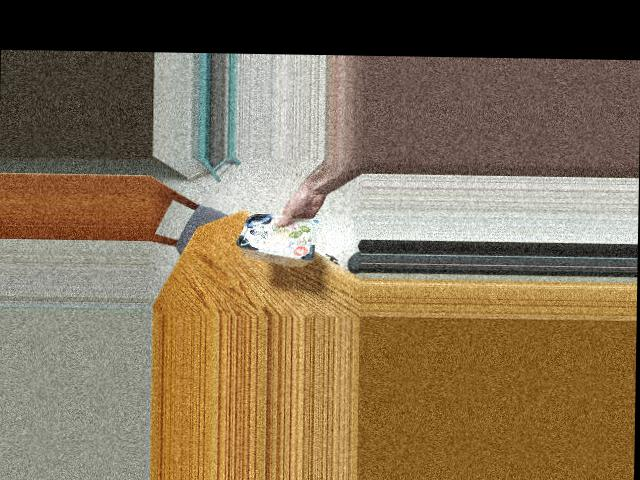cheese: (240, 205, 315, 262)
